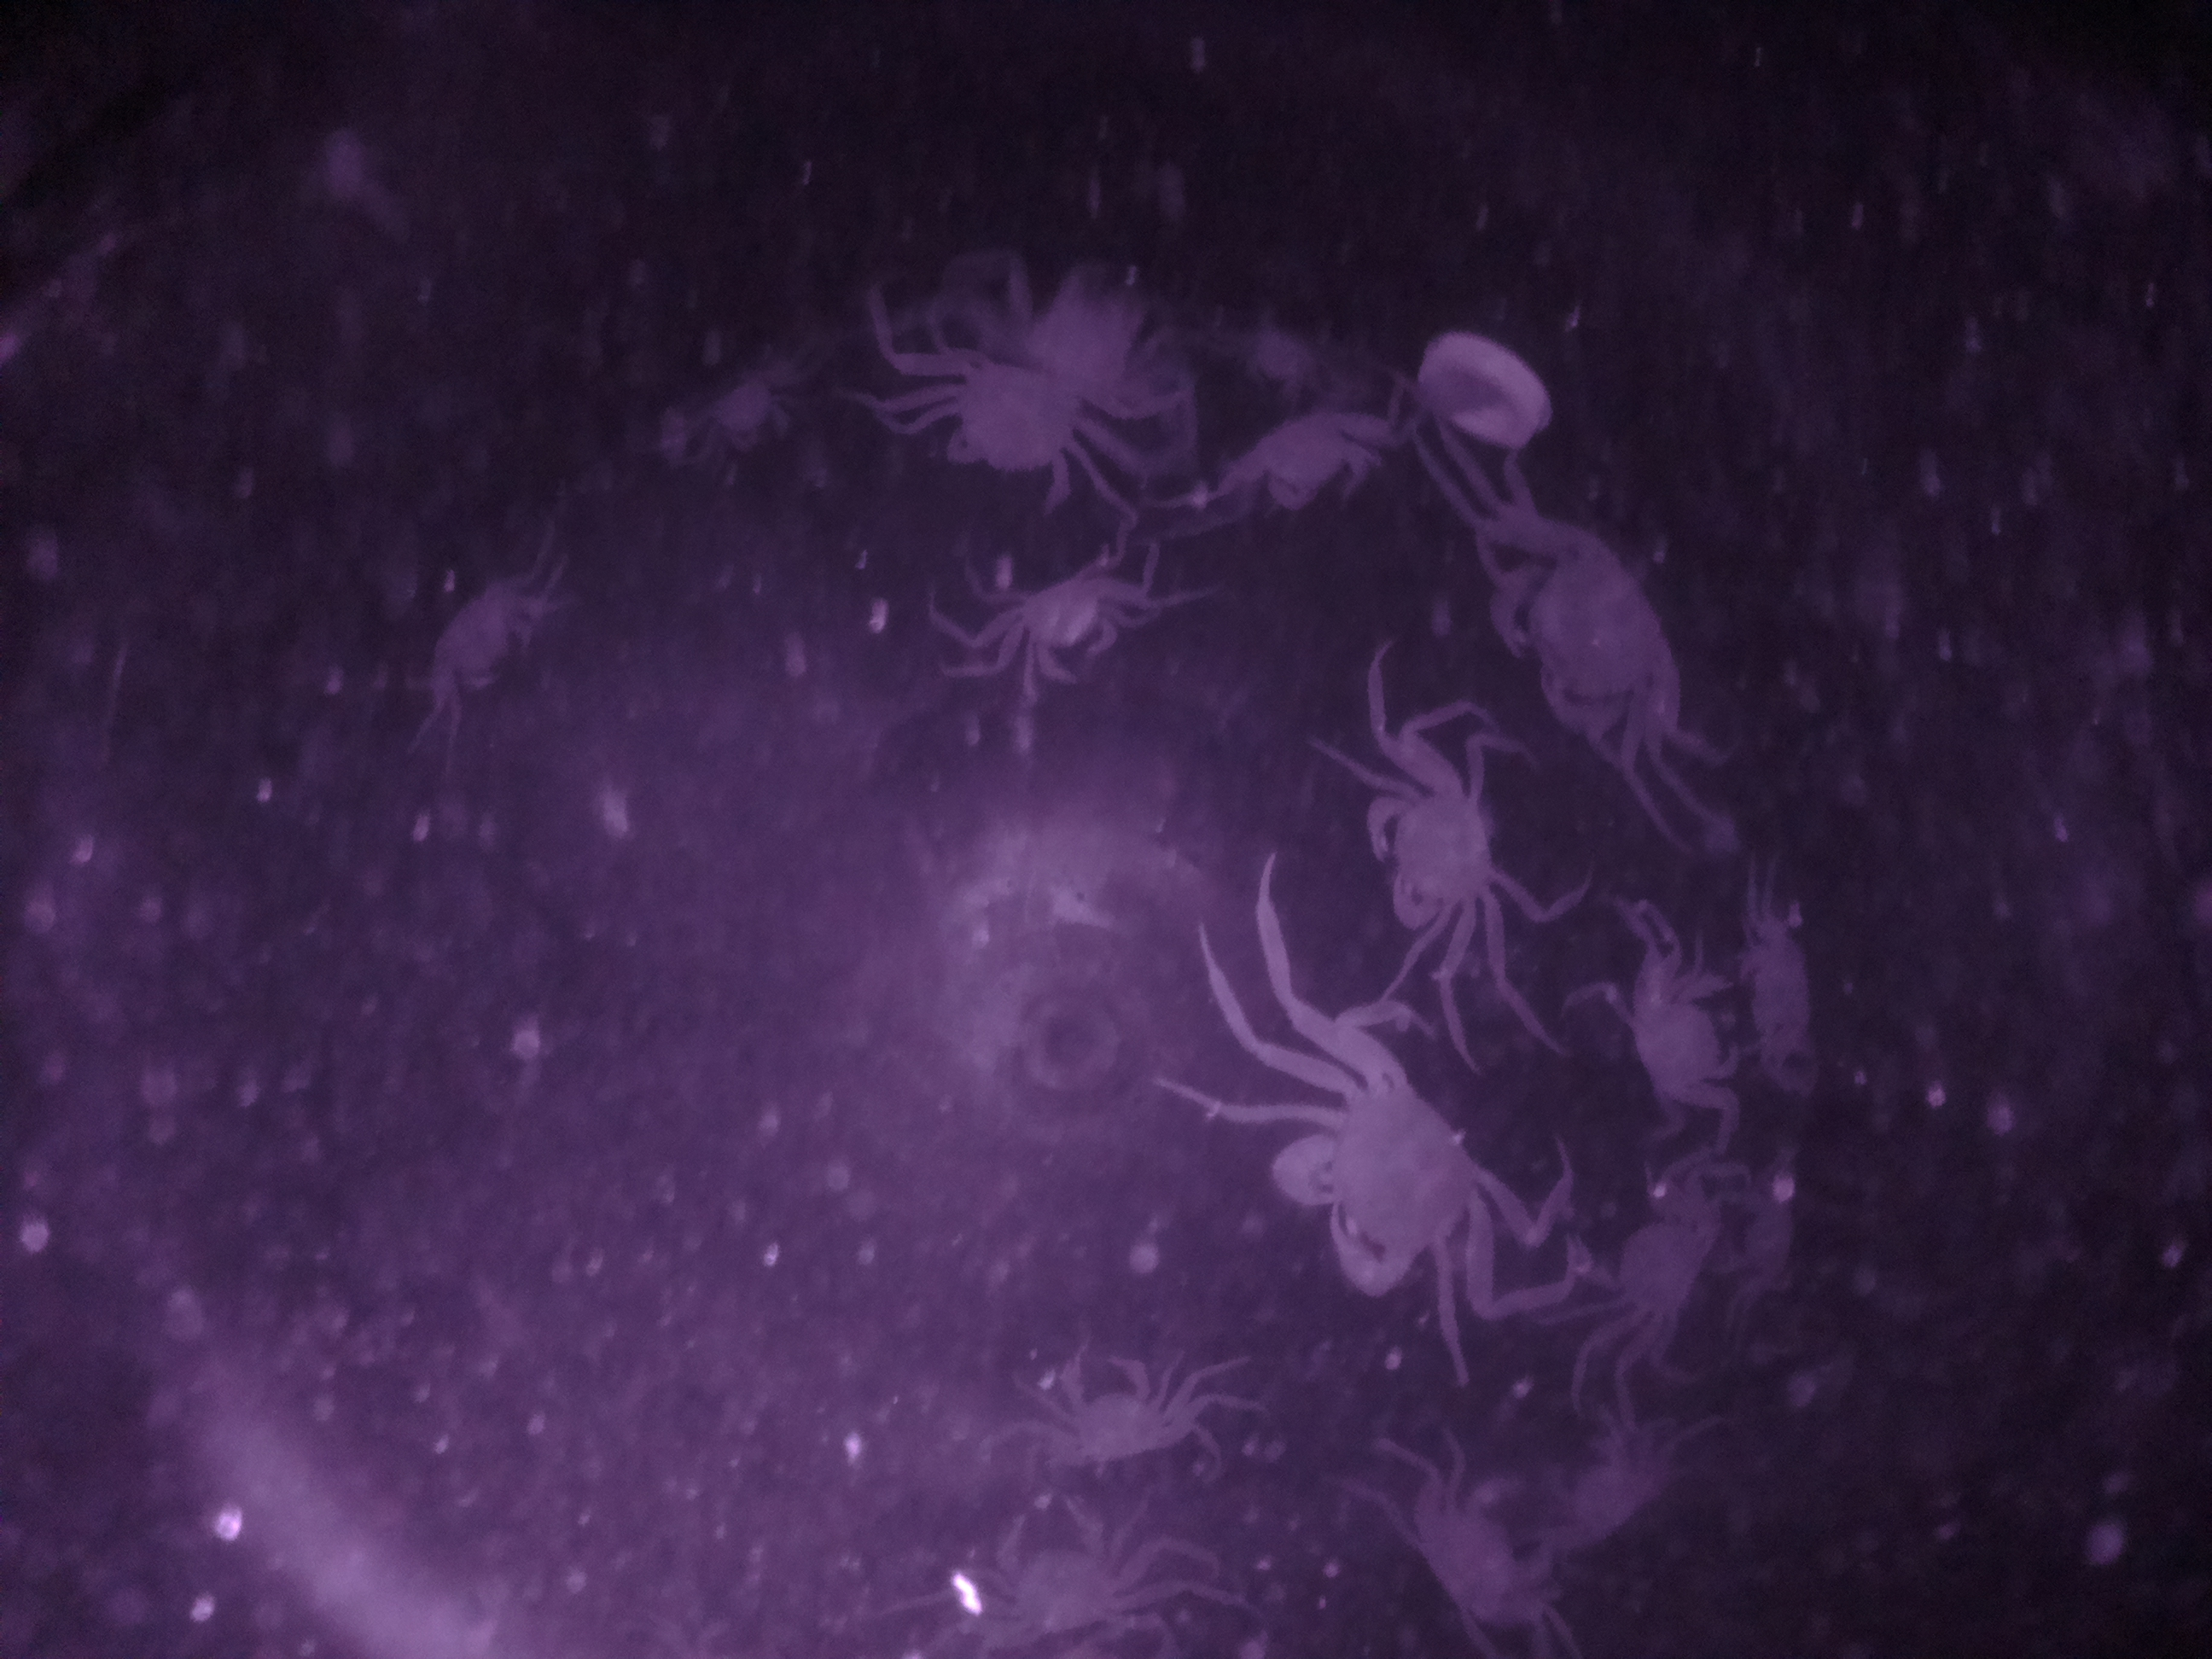Crab: (1235, 1023, 1507, 1323), (1465, 497, 1696, 767), (1378, 1439, 1585, 1656), (907, 349, 1111, 511), (1360, 741, 1508, 960), (1015, 1328, 1197, 1488), (1597, 946, 1750, 1131), (982, 549, 1127, 699)
